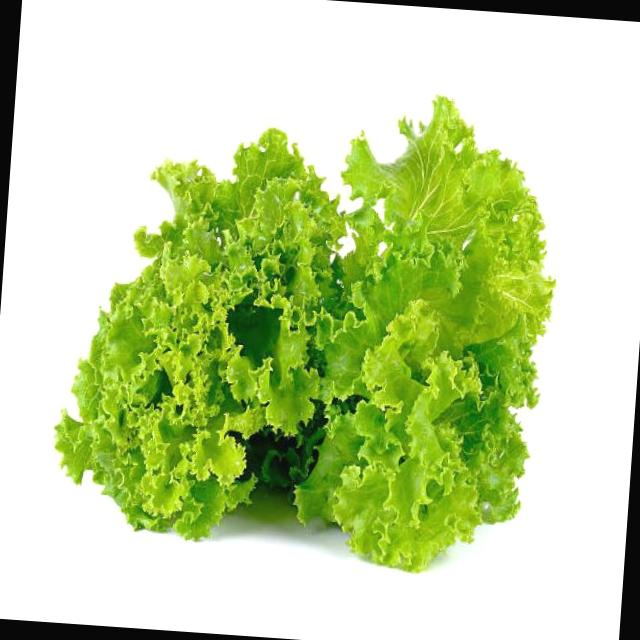Lettuce-Ready-to-Harvest: (53, 96, 556, 575)
